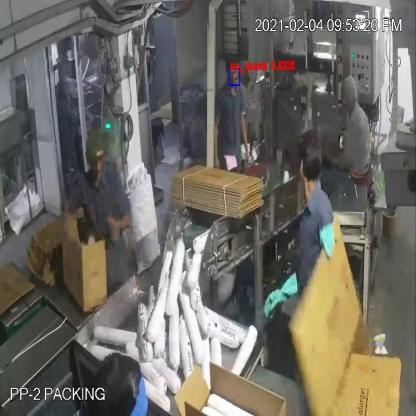glove: (260, 264, 300, 320), (316, 218, 340, 266)
no_glove: (206, 107, 229, 170), (240, 100, 258, 174), (101, 208, 137, 244)
